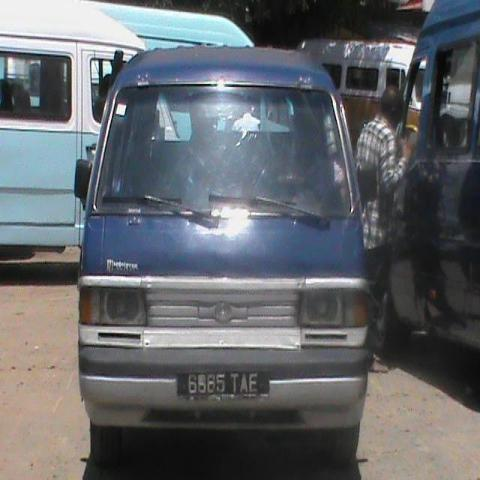van: (80, 52, 363, 480), (0, 4, 169, 272)
